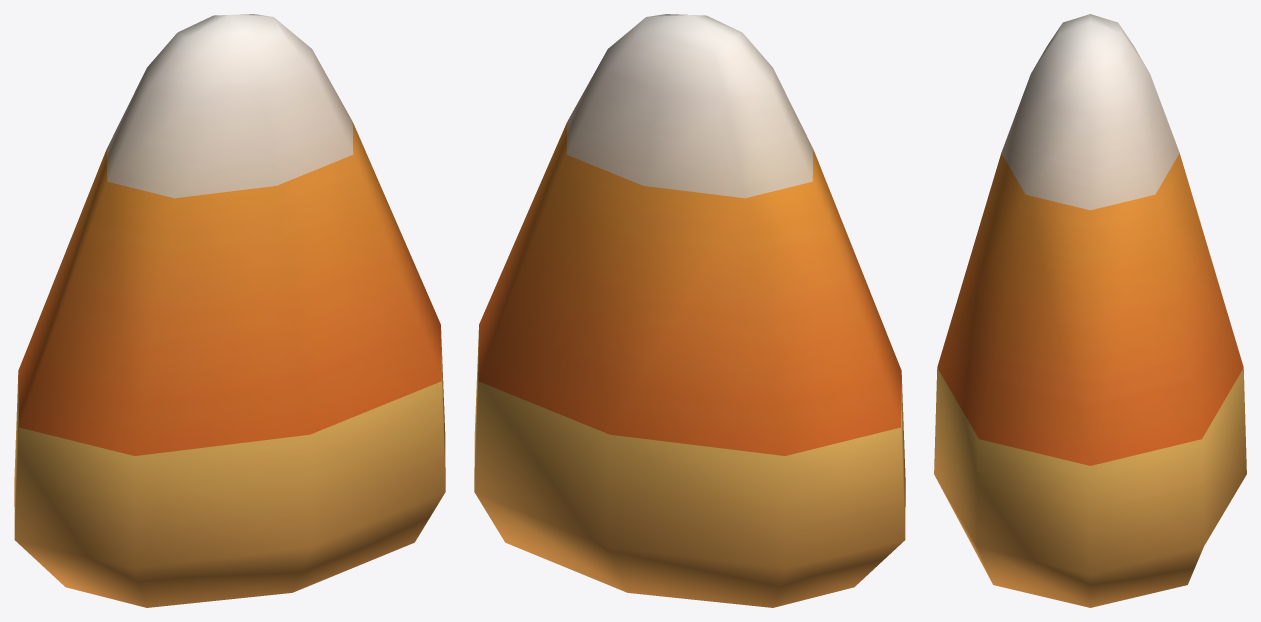
The model's file is candycorn.glb.
3 views of the same model, side by side, from view 1: azimuth 30°, elevation 25°; view 2: azimuth 150°, elevation 25°; view 3: azimuth 270°, elevation 25° (orthographic). The views are drawn at different scales.
Visible parts, largest first — view 1: candycorn; view 2: candycorn; view 3: candycorn.
Part boxes in pixels (x1,y1,x2,y2): candycorn: (14,14,445,607); candycorn: (474,14,905,607); candycorn: (934,14,1246,607).
Size of the model in its own units: 0.2427 by 0.2969 by 0.1597.
Materials: 1 (1 with a texture image).
